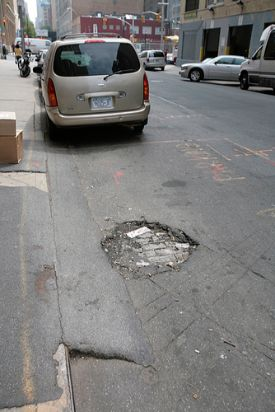pothole: (97, 217, 199, 278)
